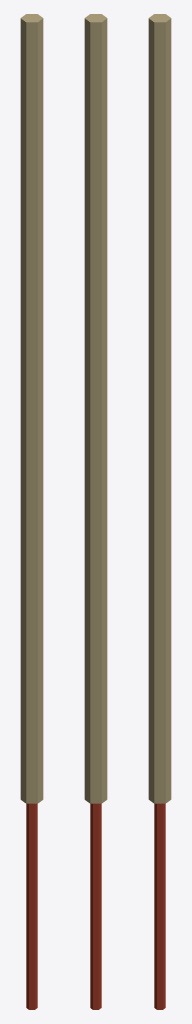
3 renders of one model, left to right at view 1: azimuth 90°, elevation 25°; view 2: azimuth 150°, elevation 25°; view 3: azimuth 270°, elevation 25°, orthographic.
Parts seen in each view (by area): view 1: Incense_stick_B, Incense_stick_A; view 2: Incense_stick_B, Incense_stick_A; view 3: Incense_stick_B, Incense_stick_A.
Boxes of the visible parts, x1,y1,x2,y2 form: Incense_stick_B: [20, 14, 43, 803]; Incense_stick_A: [26, 803, 37, 1009]; Incense_stick_B: [84, 14, 107, 803]; Incense_stick_A: [90, 803, 101, 1009]; Incense_stick_B: [148, 14, 171, 803]; Incense_stick_A: [154, 803, 165, 1009].
Size of the model in its own units: 3.46 by 190 by 4.
